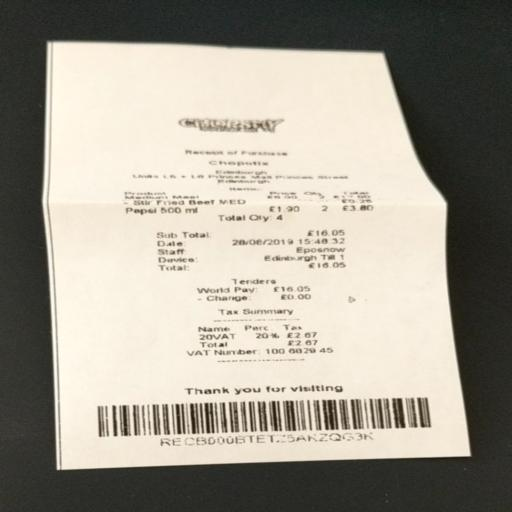paper: (14, 2, 512, 512)
